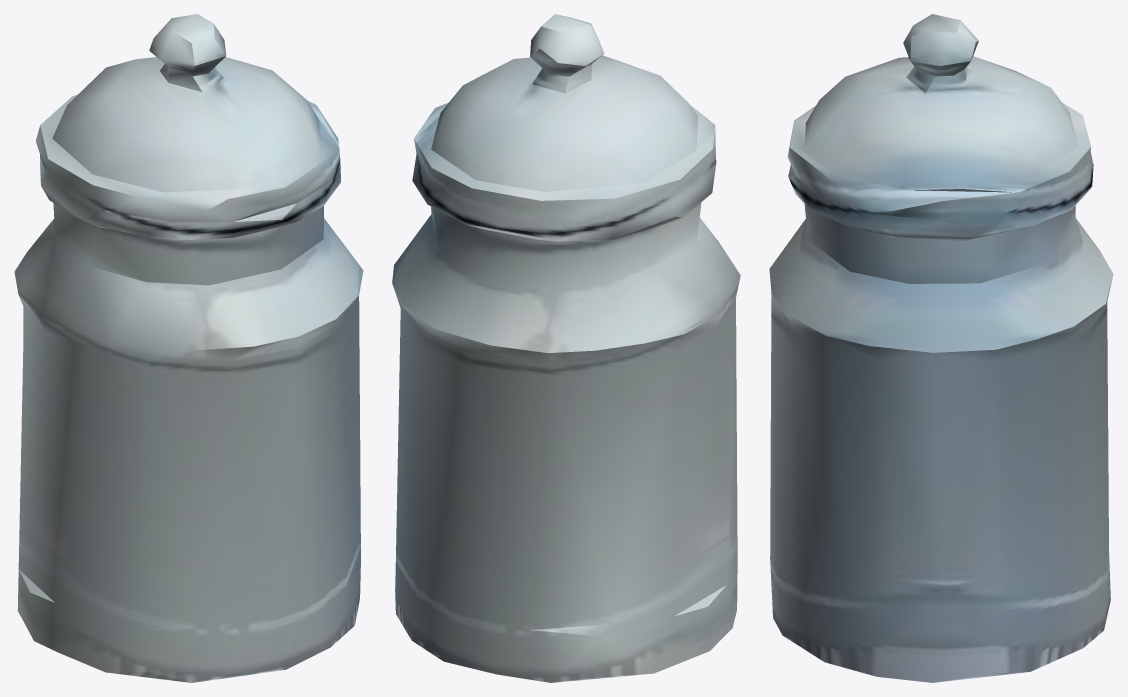
The picture shows the model from 3 angles, left to right: view 1: azimuth 30°, elevation 25°; view 2: azimuth 150°, elevation 25°; view 3: azimuth 270°, elevation 25°; orthographic projection.
Parts seen in each view (by area): view 1: Decor_milk_churn; view 2: Decor_milk_churn; view 3: Decor_milk_churn.
Part boxes in pixels (x1,y1,x2,y2): Decor_milk_churn: (14,14,363,682); Decor_milk_churn: (392,14,740,682); Decor_milk_churn: (769,14,1113,682).
Size of the model in its own units: 0.3741 by 0.6944 by 0.3679.
1 material, 1 textured.
